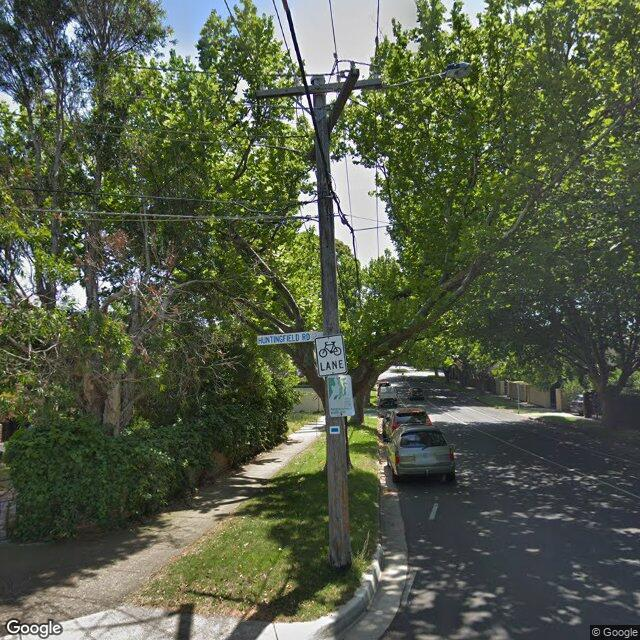crossarm: (310, 60, 360, 160), (255, 77, 383, 100)
streetlight: (384, 62, 473, 88)
timber-pole: (311, 75, 352, 568)
